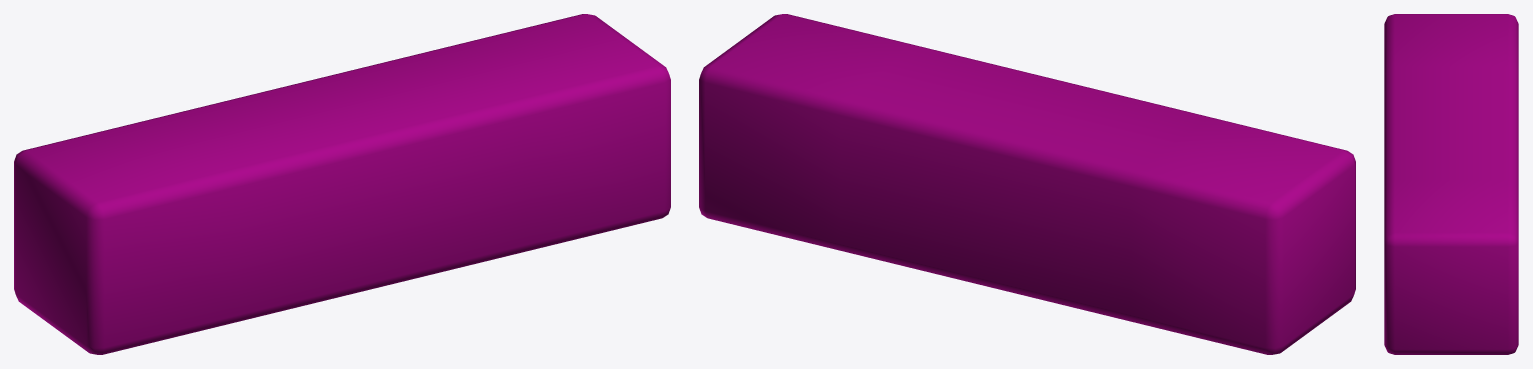
File: longboi.glb
3 views of the same model, side by side, from view 1: azimuth 30°, elevation 25°; view 2: azimuth 150°, elevation 25°; view 3: azimuth 270°, elevation 25° (orthographic). The views are drawn at different scales.
Parts seen in each view (by area): view 1: plus; view 2: plus; view 3: plus.
Part boxes in pixels (x1,y1,x2,y2): plus: (14,14,670,354); plus: (699,14,1355,354); plus: (1384,14,1518,354).
Bounding box in the file's own units: 8 × 2 × 2.
